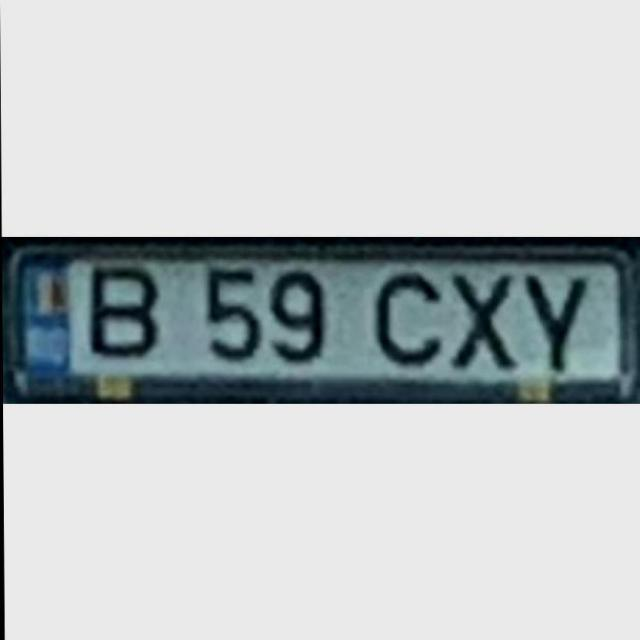license-plates: (0, 238, 640, 403)
